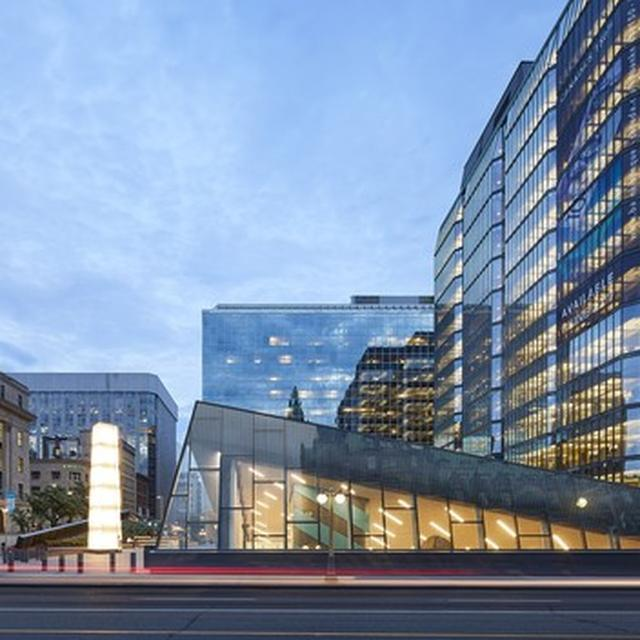building: (434, 0, 640, 511), (198, 291, 438, 450), (5, 369, 178, 522)
